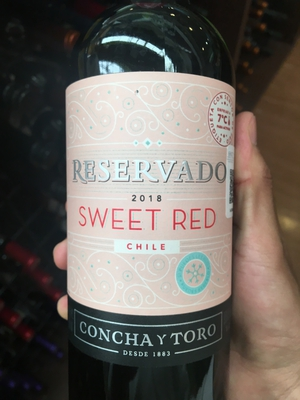reservado sweet red: (59, 14, 248, 400)
